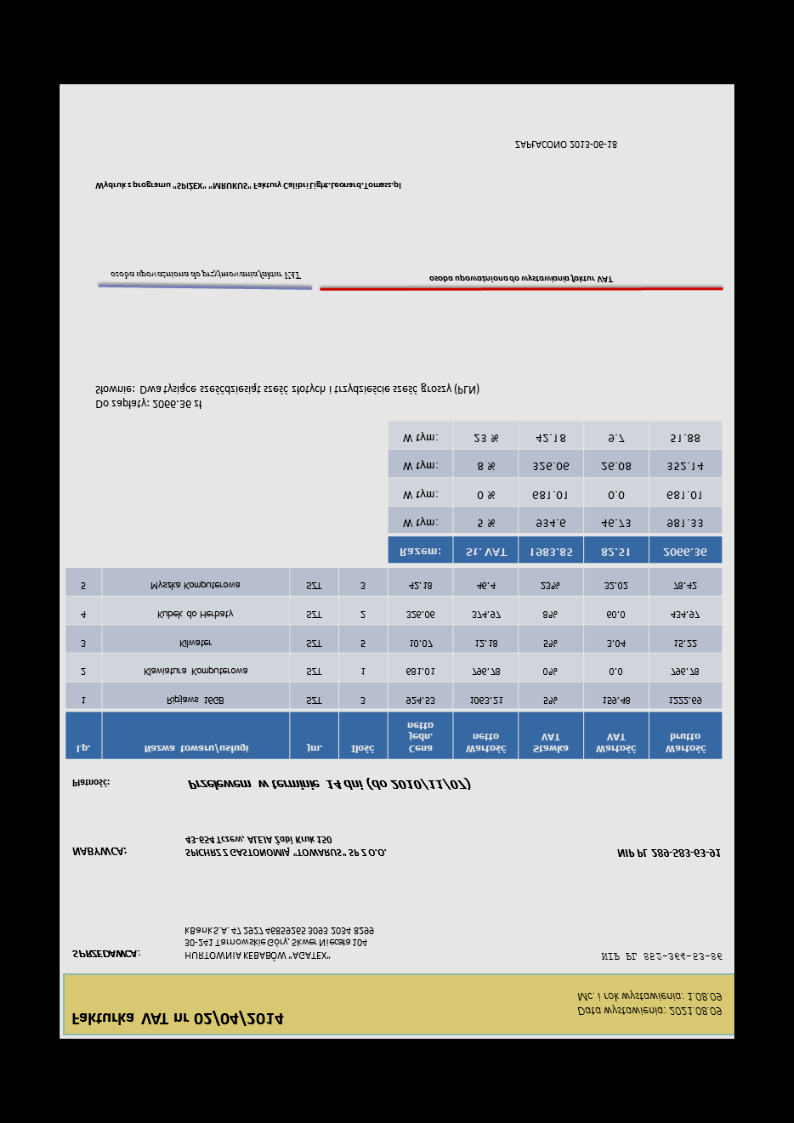Table: (64, 567, 723, 761), (387, 420, 723, 565)
TextBox: (93, 381, 480, 411), (182, 926, 376, 962), (183, 834, 388, 860), (184, 775, 473, 792), (576, 989, 725, 1018), (70, 1009, 286, 1028), (94, 179, 404, 192), (428, 272, 614, 286), (108, 269, 303, 281), (598, 950, 724, 964), (615, 847, 723, 859), (513, 139, 621, 151), (71, 949, 141, 961), (69, 845, 129, 859), (69, 778, 111, 790)
